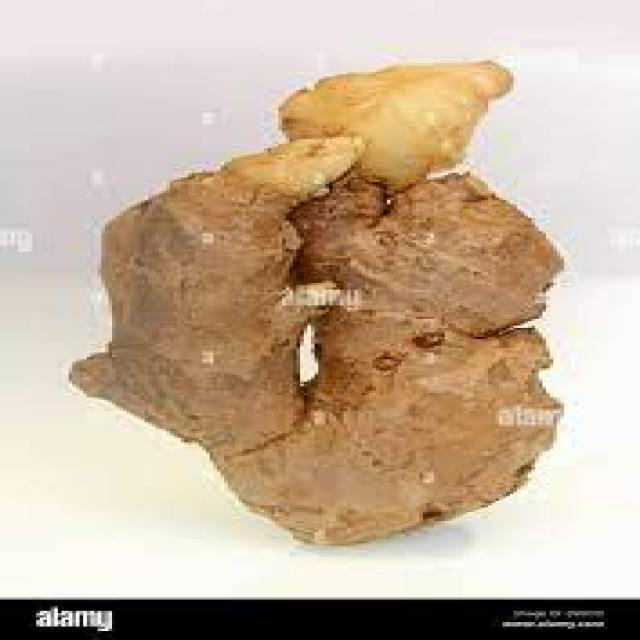ginger: (102, 64, 568, 558)
